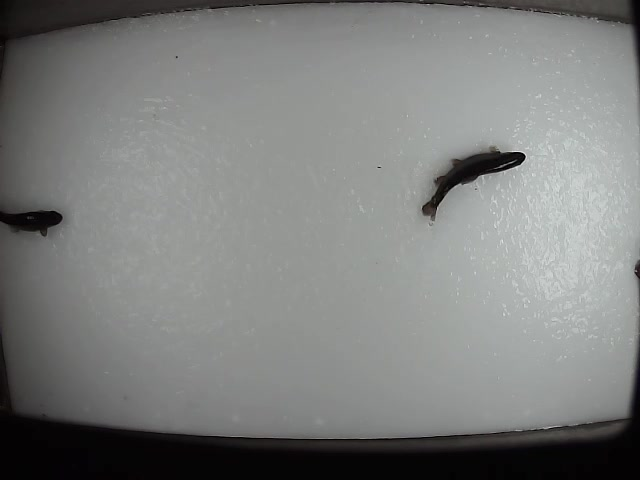Fish: (422, 146, 526, 221)
